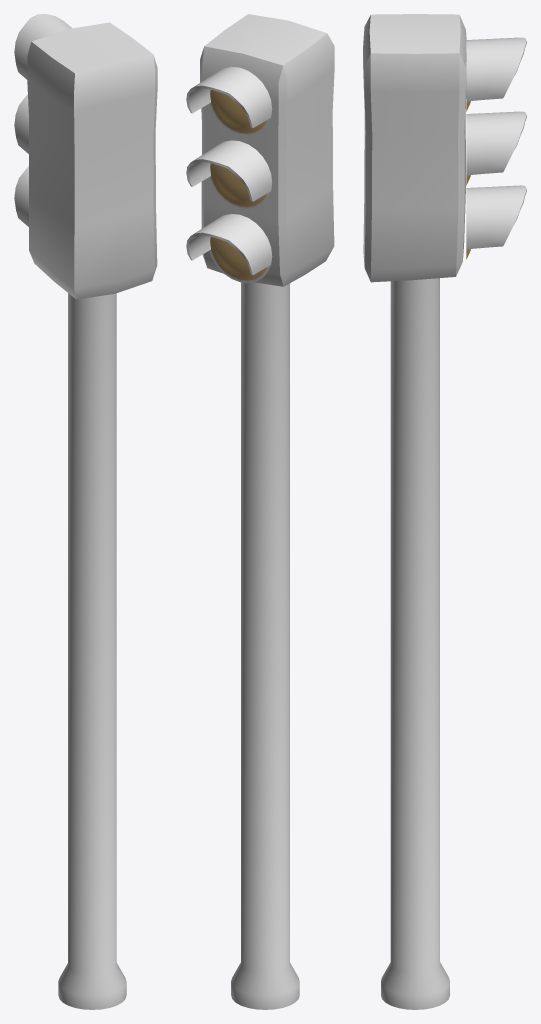
The model's file is Semaforo.fbx.
3 views of the same model, side by side, from view 1: azimuth 30°, elevation 25°; view 2: azimuth 150°, elevation 25°; view 3: azimuth 270°, elevation 25° (orthographic).
Visible parts, largest first — view 1: Pole, Lights; view 2: Pole, Lights; view 3: Pole, Lights.
Part boxes in pixels (bbox=[...]): Pole: bbox=[58, 293, 126, 1009]; Lights: bbox=[14, 14, 157, 299]; Pole: bbox=[231, 282, 299, 1009]; Lights: bbox=[186, 14, 334, 286]; Pole: bbox=[381, 278, 449, 1009]; Lights: bbox=[363, 14, 526, 282].
Bounding box in the file's own units: 82.3 × 838 × 129.
